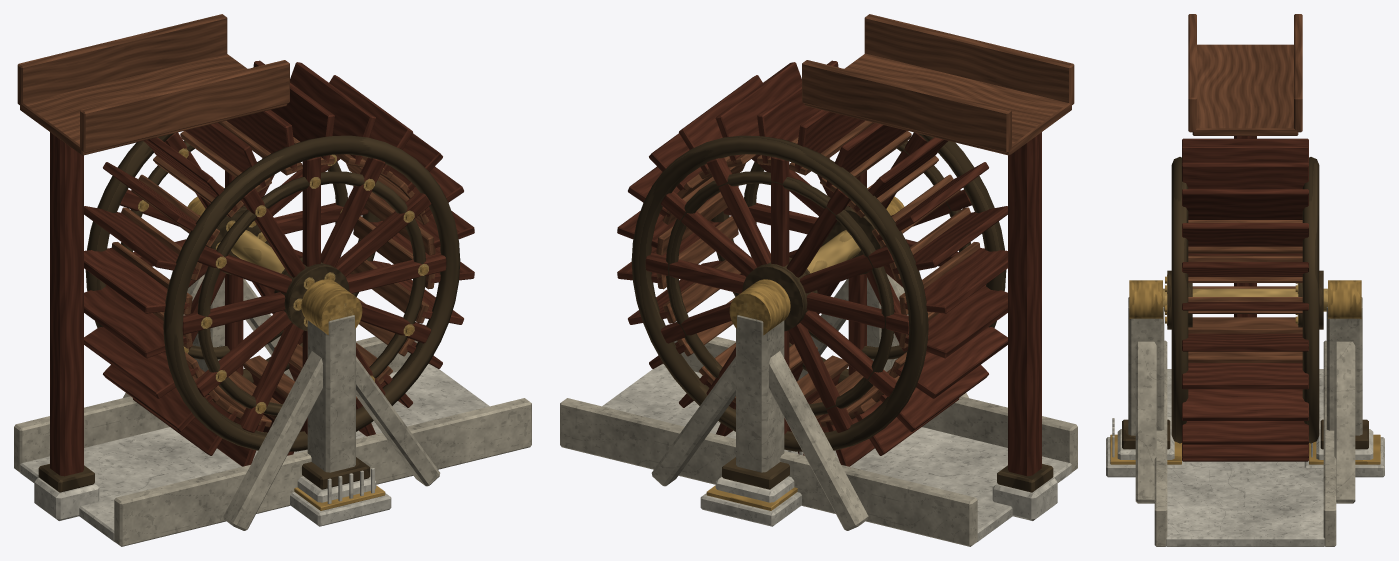
3 renders of one model, left to right at view 1: azimuth 30°, elevation 25°; view 2: azimuth 150°, elevation 25°; view 3: azimuth 270°, elevation 25°, orthographic. The views are drawn at different scales.
Parts seen in each view (by area): view 1: quarter-sawn-timber (×2), honed-limestone, exposed-end-grain (×2), dark-patinated-bronze-fittings (×2), carved-limestone-mouldings, aged-bronze (×2), polished-bronze-bearing (×2); view 2: quarter-sawn-timber (×2), honed-limestone, exposed-end-grain (×2), dark-patinated-bronze-fittings (×2), carved-limestone-mouldings, aged-bronze, polished-bronze-bearing; view 3: quarter-sawn-timber, exposed-end-grain (×2), carved-limestone-mouldings, honed-limestone, dark-patinated-bronze-fittings (×2), aged-bronze, polished-bronze-bearing.
Part boxes in pixels (box(x1,y1,x2,y2)): quarter-sawn-timber (×2): box(50, 60, 474, 476); honed-limestone: box(14, 273, 531, 546); exposed-end-grain (×2): box(17, 14, 435, 427); dark-patinated-bronze-fittings (×2): box(38, 133, 460, 492); carved-limestone-mouldings: box(20, 364, 489, 541); aged-bronze (×2): box(140, 150, 428, 510); polished-bronze-bearing (×2): box(138, 148, 428, 413); quarter-sawn-timber (×2): box(617, 60, 1041, 476); honed-limestone: box(560, 273, 1077, 546); exposed-end-grain (×2): box(656, 14, 1074, 427); dark-patinated-bronze-fittings (×2): box(631, 133, 1053, 492); carved-limestone-mouldings: box(602, 364, 1071, 541); aged-bronze: box(706, 196, 904, 510); polished-bronze-bearing: box(738, 230, 860, 319); quarter-sawn-timber: box(1182, 138, 1308, 461); exposed-end-grain (×2): box(1188, 14, 1302, 362); carved-limestone-mouldings: box(1106, 369, 1384, 546); honed-limestone: box(1128, 297, 1362, 546); dark-patinated-bronze-fittings (×2): box(1122, 157, 1368, 449); aged-bronze: box(1110, 280, 1380, 464); polished-bronze-bearing: box(1163, 288, 1327, 311).
Bounding box in the file's own units: 2 × 1.89 × 1.32.
Materials: 7 (7 with a texture image).
